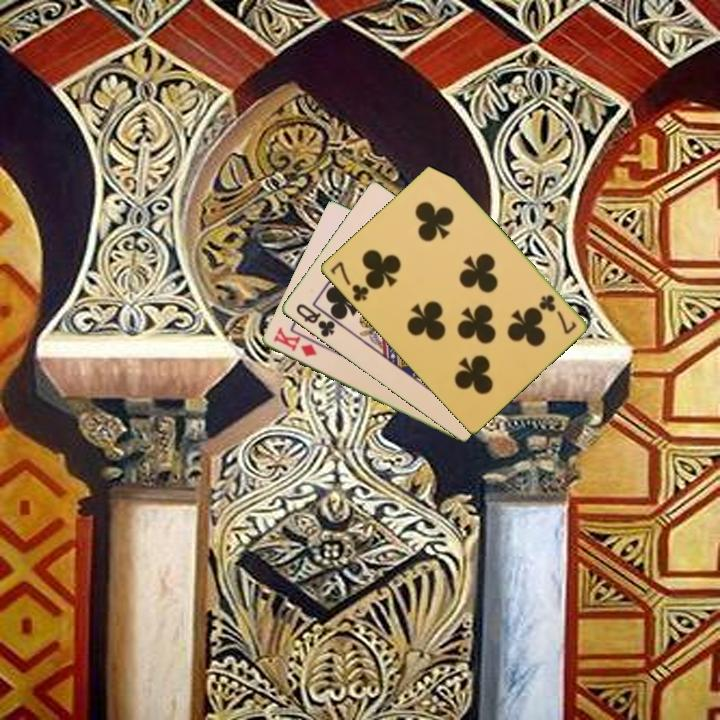7c: (326, 258, 371, 305), (535, 291, 579, 337)
Kd: (269, 325, 320, 360)
Qc: (292, 300, 338, 340)
